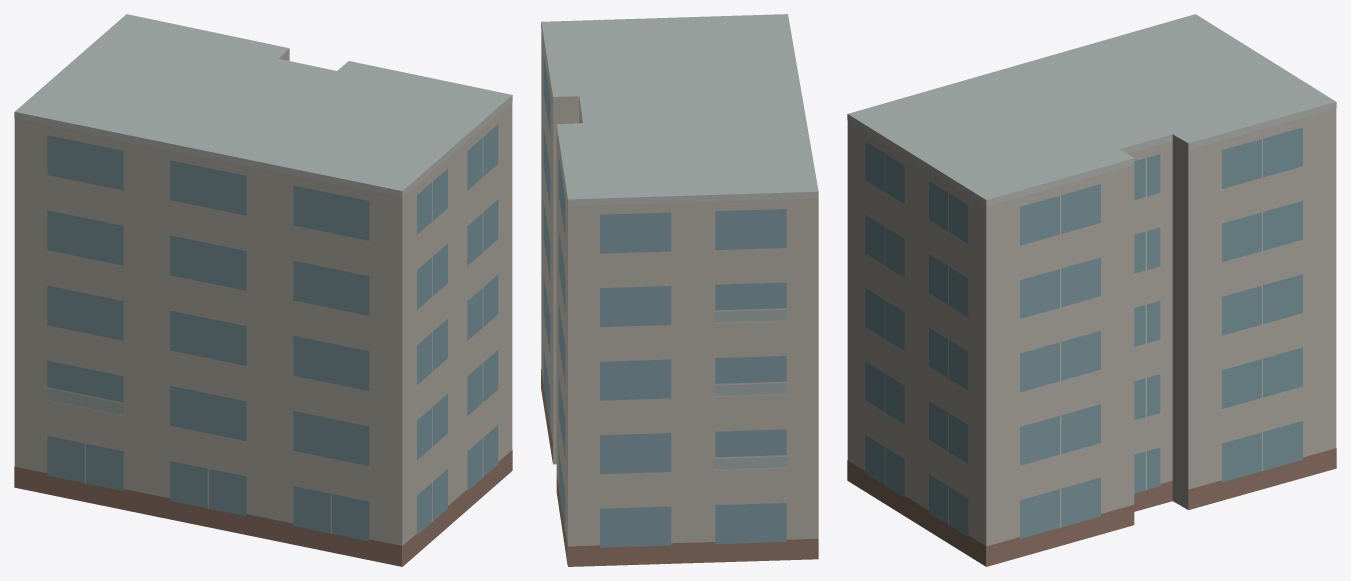
Rendered from survey-upis-32513557.glb.
The picture shows the model from 3 angles, left to right: view 1: azimuth 30°, elevation 25°; view 2: azimuth 150°, elevation 25°; view 3: azimuth 270°, elevation 25°; orthographic projection. The views are drawn at different scales.
Parts seen in each view (by area): view 1: survey-upis-32513557.tmp; view 2: survey-upis-32513557.tmp; view 3: survey-upis-32513557.tmp.
Part boxes in pixels (x1,y1,x2,y2): survey-upis-32513557.tmp: (14, 14, 512, 566); survey-upis-32513557.tmp: (541, 14, 818, 566); survey-upis-32513557.tmp: (847, 14, 1336, 566).
Size of the model in its own units: 14.92 by 13.7 by 16.56.
